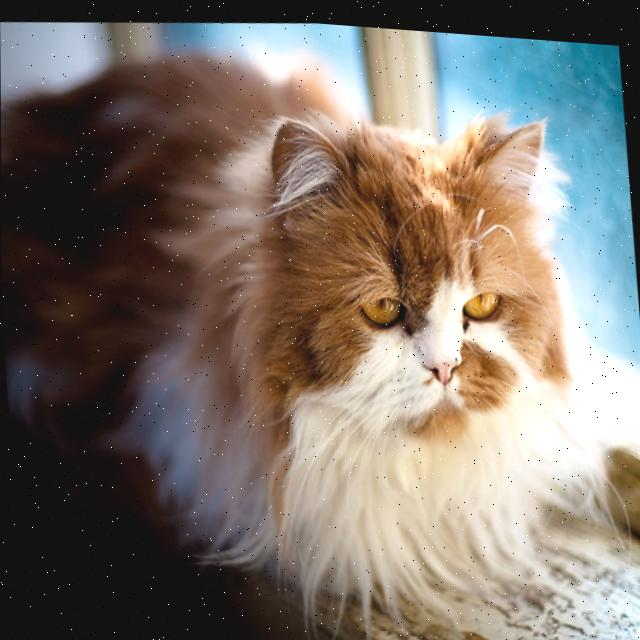Persian: (0, 13, 625, 640)
